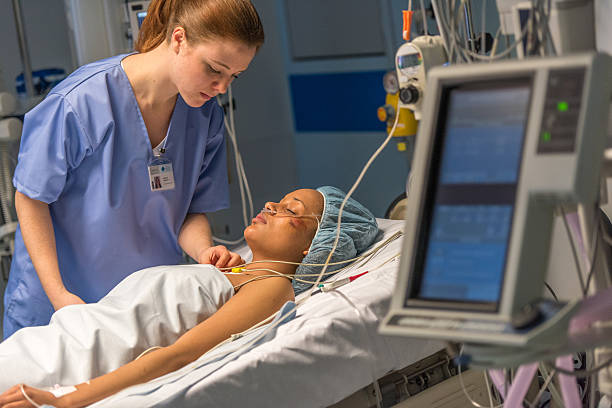bedside_monitor: (392, 71, 549, 319)
patient: (1, 188, 378, 405)
staff: (3, 1, 265, 336)
